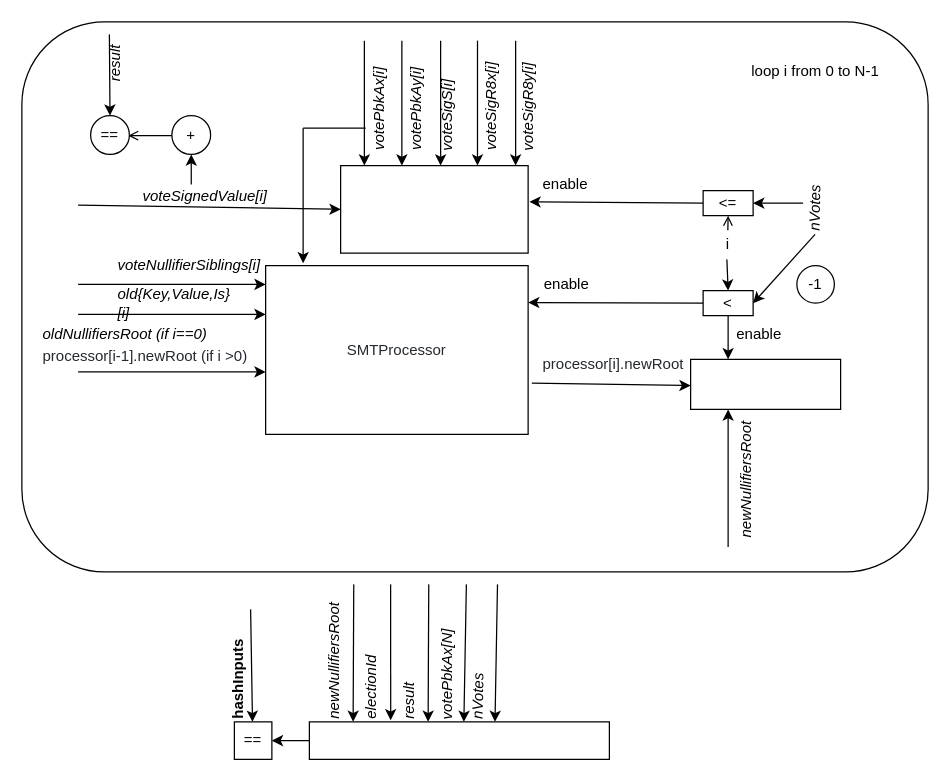
Some shapes in this 950 by 781 pixel diagram are drawn without their labels. The centre of each missing label's shape, as x and y in pixels:
EdDSAPoseidonVerifier: (433,208)
ForceEqualIfEnabled: (765,383)
SHA256: (458,740)
